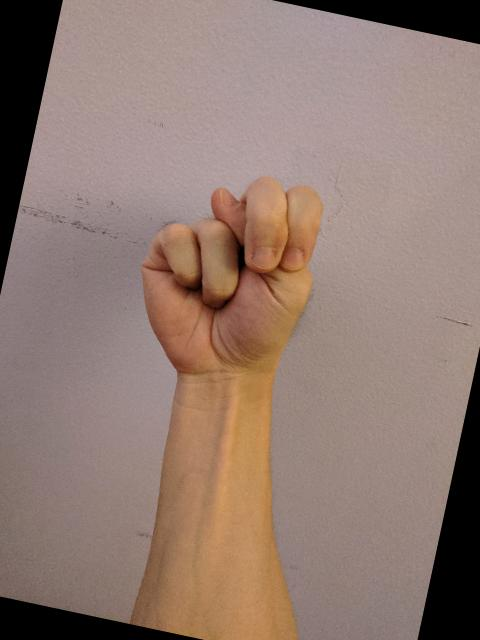N: (117, 150, 337, 403)
